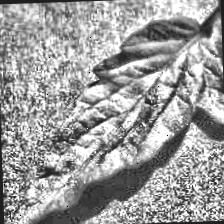leaf mold: (0, 11, 224, 224)
